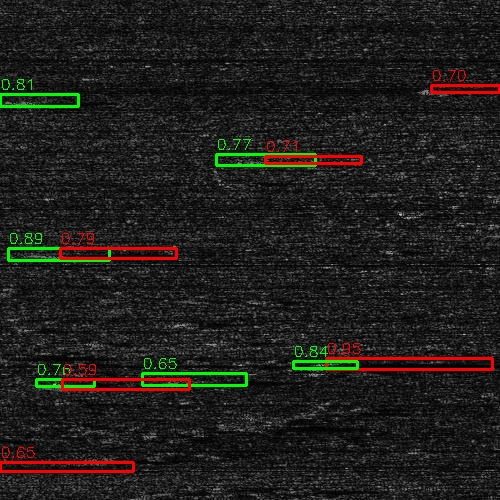rock: (0, 248, 90, 257), (213, 418, 286, 429), (230, 493, 335, 500), (299, 358, 362, 369), (0, 348, 42, 359), (169, 376, 232, 383), (34, 381, 75, 390), (229, 159, 292, 164), (413, 85, 454, 92), (0, 99, 43, 104), (485, 103, 500, 110), (419, 498, 460, 500)
shadow: (331, 358, 500, 369), (283, 493, 500, 500), (6, 348, 113, 359), (250, 418, 343, 429), (55, 381, 165, 390), (0, 466, 152, 471), (44, 248, 127, 257), (201, 376, 291, 383), (434, 85, 500, 92), (261, 159, 324, 164), (12, 99, 65, 104)
